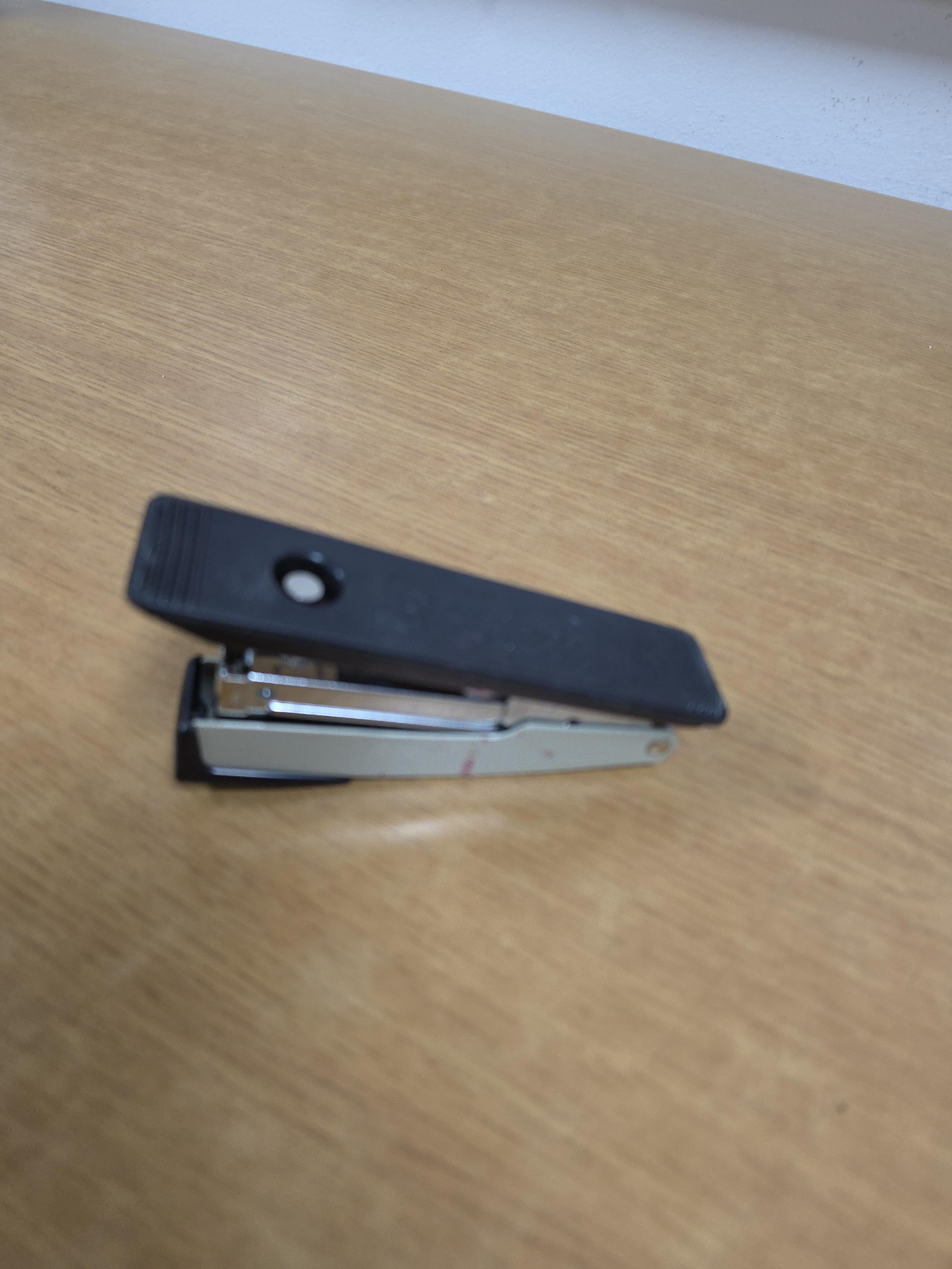stapler: (126, 493, 729, 789)
